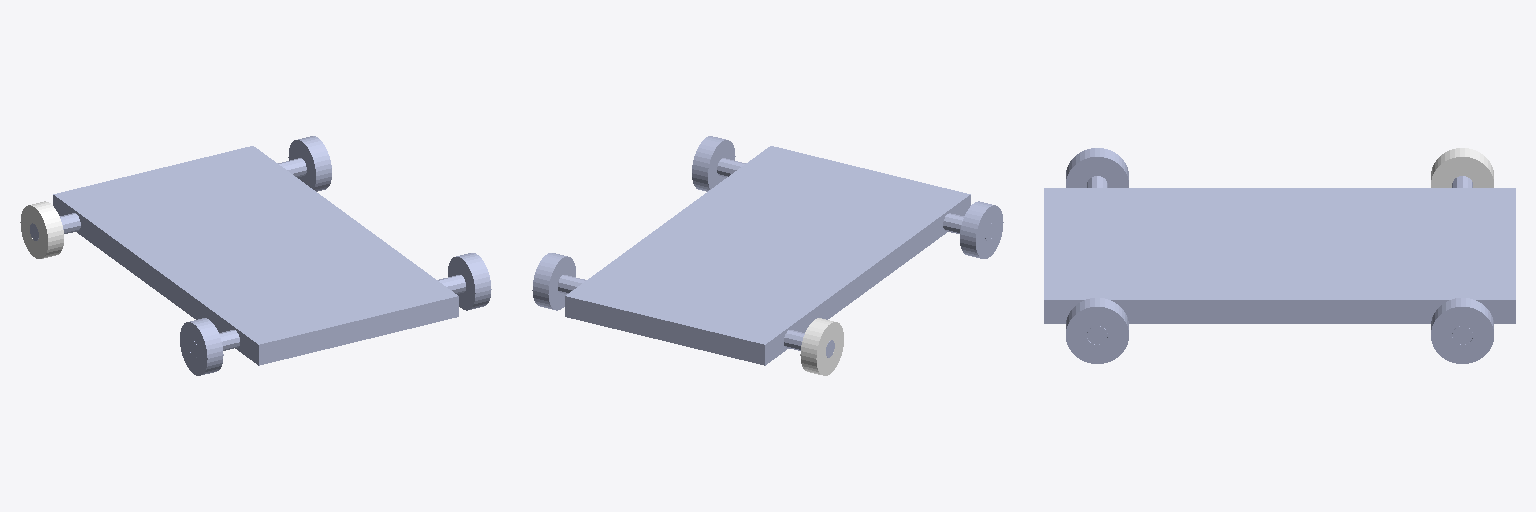
robot.urdf — ros_test_ass_v2:
<?xml version="1.0" encoding="utf-8"?>
<!-- This URDF was automatically created by SolidWorks to URDF Exporter! Originally created by [author] ([email redacted]) 
     Commit Version: 1.6.0-1-g15f4949  Build Version: 1.6.7594.29634
     For more information, please see http://wiki.ros.org/sw_urdf_exporter -->
<robot
  name="ros_test_ass_v2">
  <link
    name="chassis_link">
    <inertial>
      <origin
        xyz="0 0.445 0.0249831852972345"
        rpy="0 0 0" />
      <mass
        value="22.7777875658031" />
      <inertia
        ixx="1.53624657736055"
        ixy="-6.60685698858354E-17"
        ixz="5.67851349569685E-19"
        iyy="0.517010899353609"
        iyz="-7.25295636772156E-18"
        izz="2.04388054287898" />
    </inertial>
    <visual>
      <origin
        xyz="0 0 0"
        rpy="0 0 0" />
      <geometry>
        <mesh
          filename="package://ros_test_ass_v2/meshes/chassis_link.STL" />
      </geometry>
      <material
        name="">
        <color
          rgba="0.792156862745098 0.819607843137255 0.933333333333333 1" />
      </material>
    </visual>
    <collision>
      <origin
        xyz="0 0 0"
        rpy="0 0 0" />
      <geometry>
        <mesh
          filename="package://ros_test_ass_v2/meshes/chassis_link.STL" />
      </geometry>
    </collision>
  </link>
  <link
    name="front_left_wheel">
    <inertial>
      <origin
        xyz="0.335 0.1 0.024274"
        rpy="0 0 0" />
      <mass
        value="0.40212" />
      <inertia
        ixx="0.00080425"
        ixy="9.2518E-37"
        ixz="1.1656E-36"
        iyy="0.00045574"
        iyz="7.6788E-38"
        izz="0.00045574" />
    </inertial>
    <visual>
      <origin
        xyz="0 0 0"
        rpy="0 0 0" />
      <geometry>
        <mesh
          filename="package://ros_test_ass_v2/meshes/front_left_wheel.STL" />
      </geometry>
      <material
        name="">
        <color
          rgba="0.79216 0.81961 0.93333 1" />
      </material>
    </visual>
    <collision>
      <origin
        xyz="0 0 0"
        rpy="0 0 0" />
      <geometry>
        <mesh
          filename="package://ros_test_ass_v2/meshes/front_left_wheel.STL" />
      </geometry>
    </collision>
  </link>
  <joint
    name="front_left"
    type="revolute">
    <origin
      xyz="0 0 0"
      rpy="0 0 0" />
    <parent
      link="chassis_link" />
    <child
      link="front_left_wheel" />
    <axis
      xyz="-1 0 0" />
    <limit
      lower="0"
      upper="0"
      effort="0"
      velocity="0" />
  </joint>
  <link
    name="front_right_wheel">
    <inertial>
      <origin
        xyz="-0.335 0.1 0.024274"
        rpy="0 0 0" />
      <mass
        value="0.40212" />
      <inertia
        ixx="0.00080425"
        ixy="-1.1755E-36"
        ixz="1.1656E-36"
        iyy="0.00045574"
        iyz="7.6788E-38"
        izz="0.00045574" />
    </inertial>
    <visual>
      <origin
        xyz="0 0 0"
        rpy="0 0 0" />
      <geometry>
        <mesh
          filename="package://ros_test_ass_v2/meshes/front_right_wheel.STL" />
      </geometry>
      <material
        name="">
        <color
          rgba="0.79216 0.81961 0.93333 1" />
      </material>
    </visual>
    <collision>
      <origin
        xyz="0 0 0"
        rpy="0 0 0" />
      <geometry>
        <mesh
          filename="package://ros_test_ass_v2/meshes/front_right_wheel.STL" />
      </geometry>
    </collision>
  </link>
  <joint
    name="front_right"
    type="continuous">
    <origin
      xyz="0 0 0"
      rpy="0 0 0" />
    <parent
      link="chassis_link" />
    <child
      link="front_right_wheel" />
    <axis
      xyz="-1 0 0" />
  </joint>
  <link
    name="rear_left_wheel">
    <inertial>
      <origin
        xyz="0.335 0.79 0.024274"
        rpy="0 0 0" />
      <mass
        value="0.40212" />
      <inertia
        ixx="0.00080425"
        ixy="-7.9056E-21"
        ixz="-3.9528E-21"
        iyy="0.00045574"
        iyz="-7.8895E-20"
        izz="0.00045574" />
    </inertial>
    <visual>
      <origin
        xyz="0 0 0"
        rpy="0 0 0" />
      <geometry>
        <mesh
          filename="package://ros_test_ass_v2/meshes/rear_left_wheel.STL" />
      </geometry>
      <material
        name="">
        <color
          rgba="0.79216 0.81961 0.93333 1" />
      </material>
    </visual>
    <collision>
      <origin
        xyz="0 0 0"
        rpy="0 0 0" />
      <geometry>
        <mesh
          filename="package://ros_test_ass_v2/meshes/rear_left_wheel.STL" />
      </geometry>
    </collision>
  </link>
  <joint
    name="rear_left"
    type="revolute">
    <origin
      xyz="0 0 0"
      rpy="0 0 0" />
    <parent
      link="chassis_link" />
    <child
      link="rear_left_wheel" />
    <axis
      xyz="-1 0 0" />
    <limit
      lower="0"
      upper="0"
      effort="0"
      velocity="0" />
  </joint>
  <link
    name="rear_right_wheel">
    <inertial>
      <origin
        xyz="0 0 0"
        rpy="0 0 0" />
      <mass
        value="0" />
      <inertia
        ixx="0"
        ixy="0"
        ixz="0"
        iyy="0"
        iyz="0"
        izz="0" />
    </inertial>
    <visual>
      <origin
        xyz="0 0 0"
        rpy="0 0 0" />
      <geometry>
        <mesh
          filename="package://ros_test_ass_v2/meshes/rear_right_wheel.STL" />
      </geometry>
      <material
        name="">
        <color
          rgba="1 1 1 1" />
      </material>
    </visual>
    <collision>
      <origin
        xyz="0 0 0"
        rpy="0 0 0" />
      <geometry>
        <mesh
          filename="package://ros_test_ass_v2/meshes/rear_right_wheel.STL" />
      </geometry>
    </collision>
  </link>
  <joint
    name="rear_right"
    type="revolute">
    <origin
      xyz="0 0 0"
      rpy="0 0 0" />
    <parent
      link="chassis_link" />
    <child
      link="rear_right_wheel" />
    <axis
      xyz="-1 0 0" />
    <limit
      lower="0"
      upper="0"
      effort="0"
      velocity="0" />
  </joint>
</robot>

--- Render facts (derived) ---
Views: 3 orthographic renders of the robot side by side, from view 1: azimuth 30°, elevation 25°; view 2: azimuth 150°, elevation 25°; view 3: azimuth 270°, elevation 25°.
Robot: ros_test_ass_v2 — 5 links, 4 joints (3 revolute, 1 continuous); root link chassis_link; default pose: all joints at 0.
Visible links, largest first — view 1: chassis_link, front_right_wheel, rear_right_wheel, front_left_wheel, rear_left_wheel; view 2: chassis_link, rear_right_wheel, front_right_wheel, rear_left_wheel, front_left_wheel; view 3: chassis_link, front_left_wheel, rear_left_wheel, front_right_wheel, rear_right_wheel.
Boxes of the visible links, x1,y1,x2,y2 form: chassis_link: [30, 146, 465, 365]; front_right_wheel: [180, 318, 223, 375]; rear_right_wheel: [20, 201, 63, 258]; front_left_wheel: [448, 253, 491, 310]; rear_left_wheel: [288, 136, 331, 191]; chassis_link: [558, 146, 993, 365]; rear_right_wheel: [800, 318, 843, 375]; front_right_wheel: [960, 201, 1003, 258]; rear_left_wheel: [532, 253, 575, 310]; front_left_wheel: [692, 136, 735, 191]; chassis_link: [1044, 176, 1515, 344]; front_left_wheel: [1066, 298, 1128, 363]; rear_left_wheel: [1431, 298, 1493, 363]; front_right_wheel: [1066, 148, 1128, 187]; rear_right_wheel: [1431, 148, 1493, 187].
Size in the robot's own frame: 0.71 by 0.89 by 0.1198 metres.
Meshes: 5 distinct files referenced, 5 mesh visuals loaded (5 binary STL).